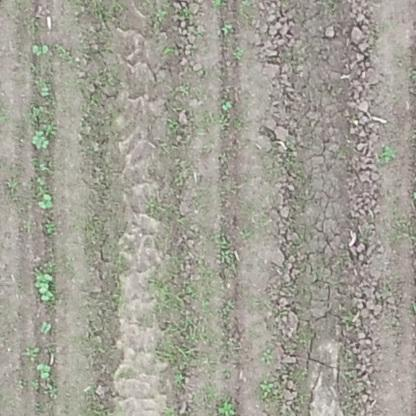vc: (35, 271, 57, 302), (30, 129, 52, 150), (35, 360, 52, 380), (29, 42, 50, 57), (37, 191, 54, 209), (36, 321, 56, 336), (222, 22, 240, 37), (221, 98, 235, 113), (37, 85, 51, 99)
